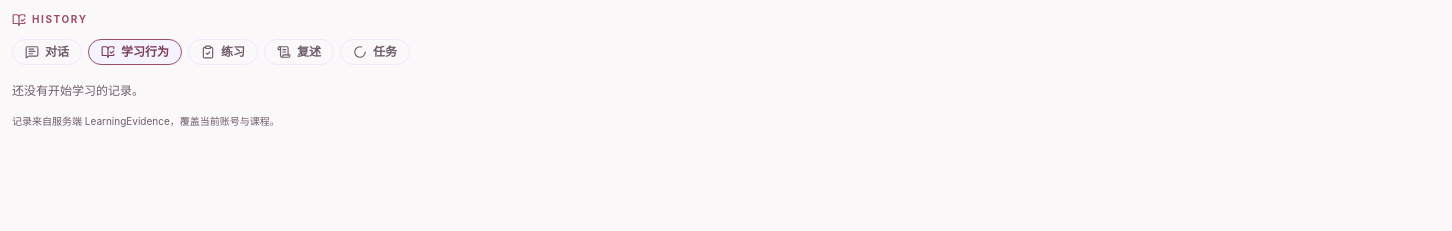
Test: WorkspaceHistoryPanel › turns learning evidence into readable events with expandable details
Click the tab "练习": coordinates (223, 52) [188, 39, 258, 65]
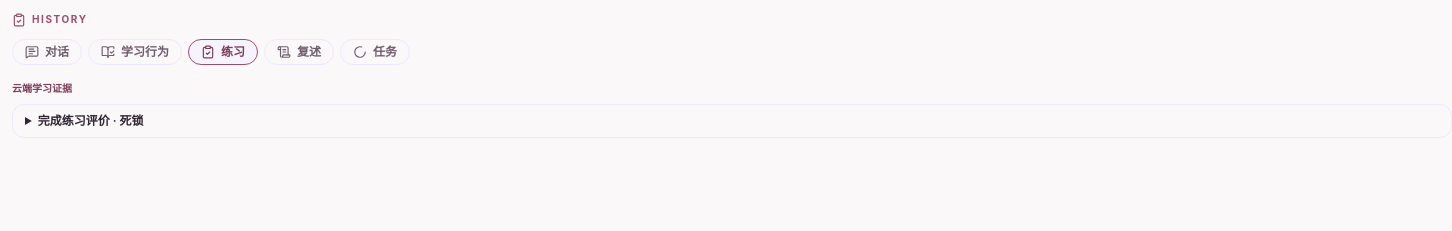
Click the heading "完成练习评价 · 死锁": coordinates (91, 120) [38, 113, 144, 128]
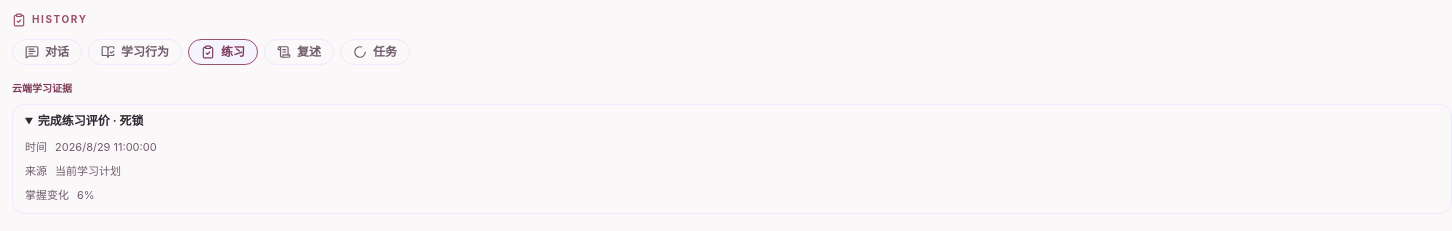
Now the text "掌握变化" is shown, box [25, 185, 69, 205]
Now the text "6%" is shown, box [77, 185, 95, 205]
